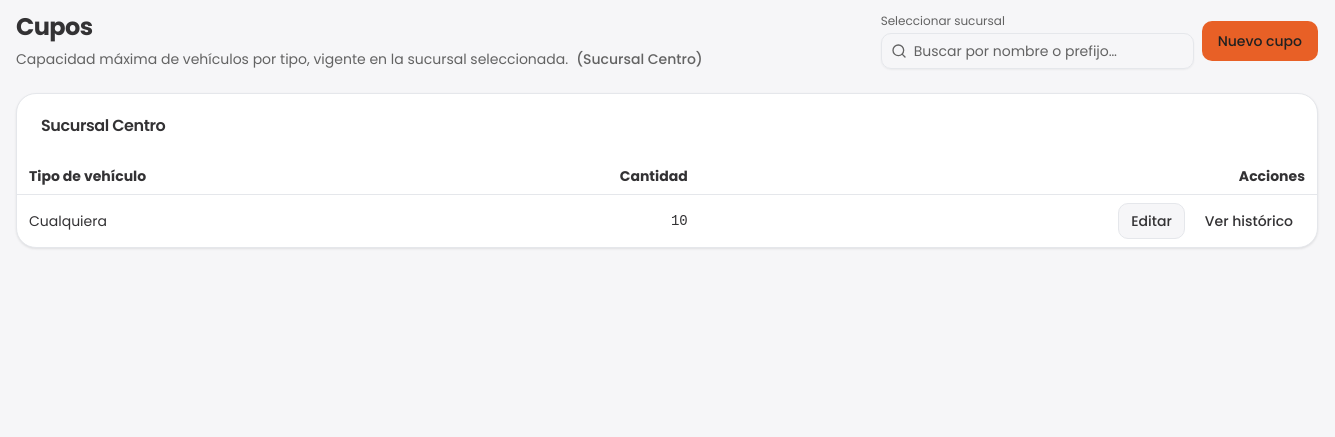
it: Cupos page › CP21: switching the active branch re-fetches the list and shows rows for the new branch (no F5)
Expected: the row with test id "cupo-row-aaaaaaaa-1111-1111-1111-111111111111" is shown, [17, 194, 1317, 247]
// (2) Switch the active branch via the inline combobox.
Click the search field with test id "cupos-branch-combobox" at [1037, 51], box [881, 33, 1194, 69]
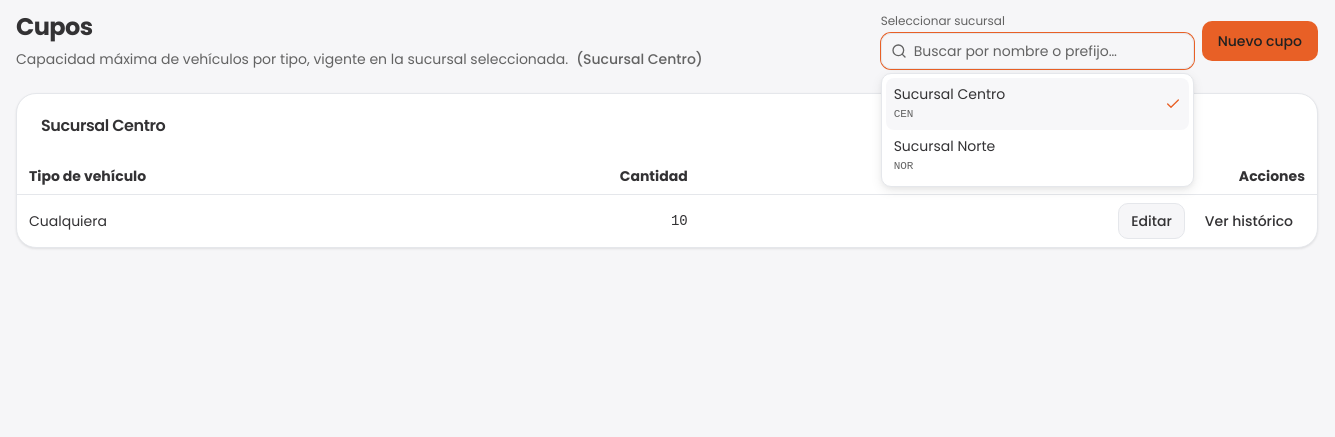
Click the button "Sucursal Norte NOR" at [944, 146], box [886, 130, 1189, 182]
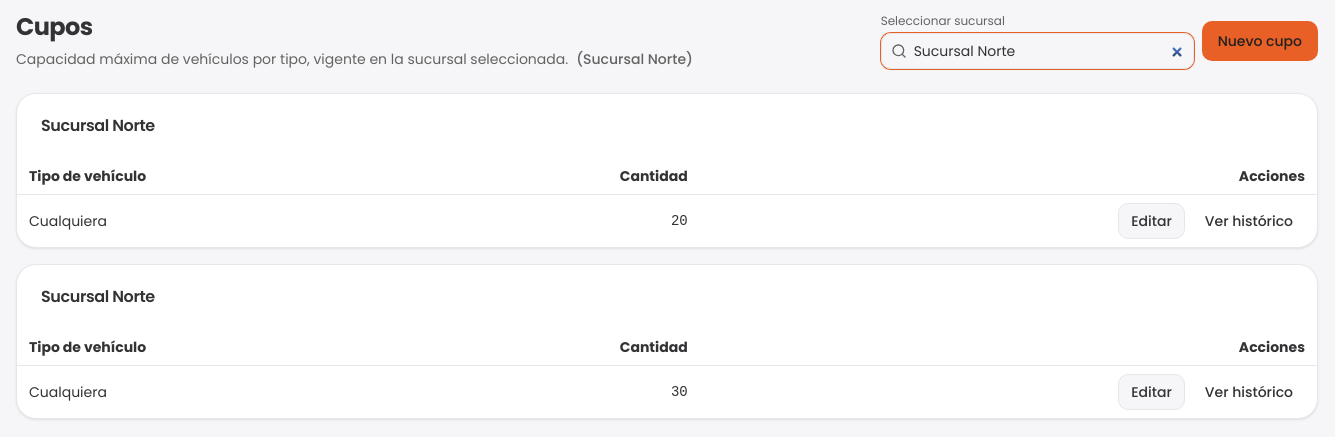
Expected: the row with test id "cupo-row-ccccccc1-2222-2222-2222-222222222222" is shown, [17, 194, 1317, 247]
Expected: the row with test id "cupo-row-ccccccc2-2222-2222-2222-222222222222" is shown, [17, 366, 1317, 418]
Expected: the row with test id "cupo-row-aaaaaaaa-1111-1111-1111-111111111111" is gone
